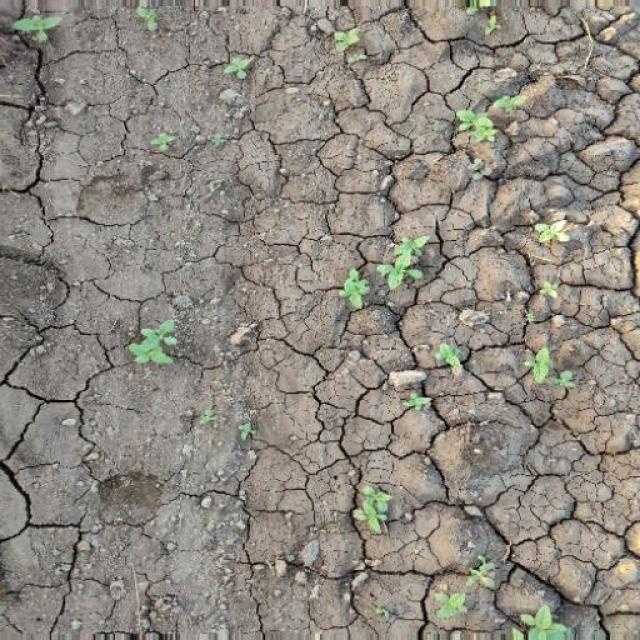crop: (337, 235, 435, 305), (458, 92, 524, 142), (125, 315, 179, 369), (10, 12, 86, 48), (530, 348, 574, 392), (526, 215, 579, 250), (358, 482, 392, 536), (330, 26, 372, 64), (222, 48, 258, 84), (435, 340, 464, 375)
